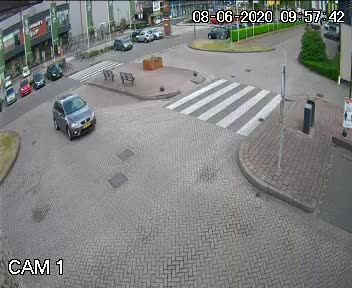car: (39, 88, 107, 145)
